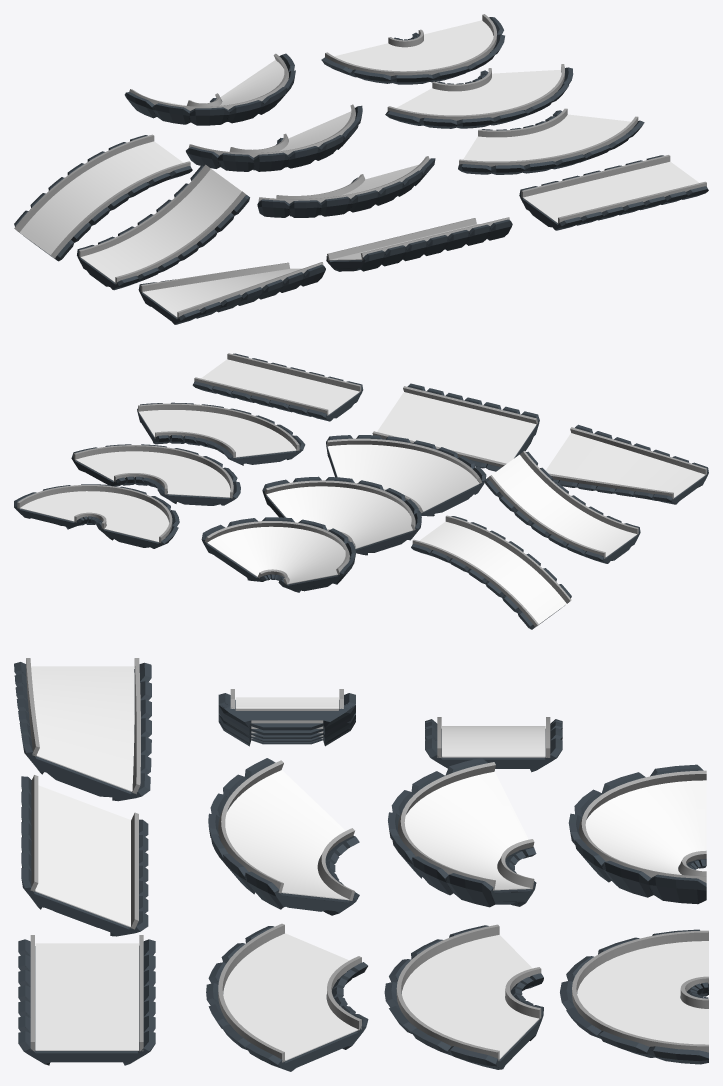
Rendered from Track.fbx.
3 renders of one model, top to bottom at view 1: azimuth 30°, elevation 25°; view 2: azimuth 150°, elevation 25°; view 3: azimuth 270°, elevation 25°, orthographic. The views are drawn at different scales.
Visible parts, largest first — view 1: Ground (×7), Rail (×8), Ground5, Ground4, Ground3, Track9, Track10, Track7, Track8, Track12, Track, Track14 (+7 smaller); view 2: Ground (×8), Rail (×8), Ground5, Ground4, Ground3, Track10, Track4, Track5, Track3, Rail2, Track, Track9 (+7 smaller); view 3: Ground (×8), Rail (×6), Ground3, Ground4, Ground5, Track14, Track10, Track, Track9, Track12, Track7, Track8 (+7 smaller).
Boxes of the visible parts, x1=… form: Ground (×7): x1=19, y1=60, x2=698, y2=317; Rail (×8): x1=14, y1=53, x2=706, y2=318; Ground5: x1=334, y1=20, x2=493, y2=71; Ground4: x1=396, y1=69, x2=561, y2=115; Ground3: x1=463, y1=114, x2=630, y2=161; Track9: x1=186, y1=105, x2=362, y2=171; Track10: x1=124, y1=53, x2=295, y2=125; Track7: x1=257, y1=158, x2=435, y2=217; Track8: x1=326, y1=219, x2=512, y2=271; Track12: x1=138, y1=264, x2=325, y2=324; Track: x1=519, y1=155, x2=708, y2=230; Track14: x1=77, y1=165, x2=249, y2=290; Ground (×8): x1=201, y1=359, x2=705, y2=625; Rail (×8): x1=194, y1=353, x2=706, y2=626; Ground5: x1=19, y1=491, x2=168, y2=542; Ground4: x1=76, y1=451, x2=230, y2=497; Ground3: x1=139, y1=410, x2=296, y2=457; Track10: x1=201, y1=517, x2=355, y2=592; Track4: x1=71, y1=444, x2=240, y2=505; Track5: x1=14, y1=484, x2=179, y2=548; Track3: x1=137, y1=402, x2=305, y2=465; Rail2: x1=138, y1=403, x2=299, y2=457; Track: x1=192, y1=353, x2=363, y2=421; Track9: x1=262, y1=476, x2=421, y2=555; Ground (×8): x1=31, y1=666, x2=706, y2=1050; Rail (×6): x1=26, y1=658, x2=706, y2=1051; Ground3: x1=223, y1=933, x2=358, y2=1060; Ground4: x1=402, y1=935, x2=539, y2=1059; Ground5: x1=577, y1=941, x2=708, y2=1044; Track14: x1=218, y1=693, x2=355, y2=746; Track10: x1=568, y1=764, x2=706, y2=904; Track: x1=18, y1=939, x2=155, y2=1065; Track9: x1=388, y1=757, x2=536, y2=907; Track12: x1=14, y1=662, x2=151, y2=801; Track7: x1=208, y1=758, x2=359, y2=915; Track8: x1=21, y1=776, x2=148, y2=936.
Bounding box in the file's own units: 510 × 85.86 × 376.
Materials: 3 (2 with a texture image).
